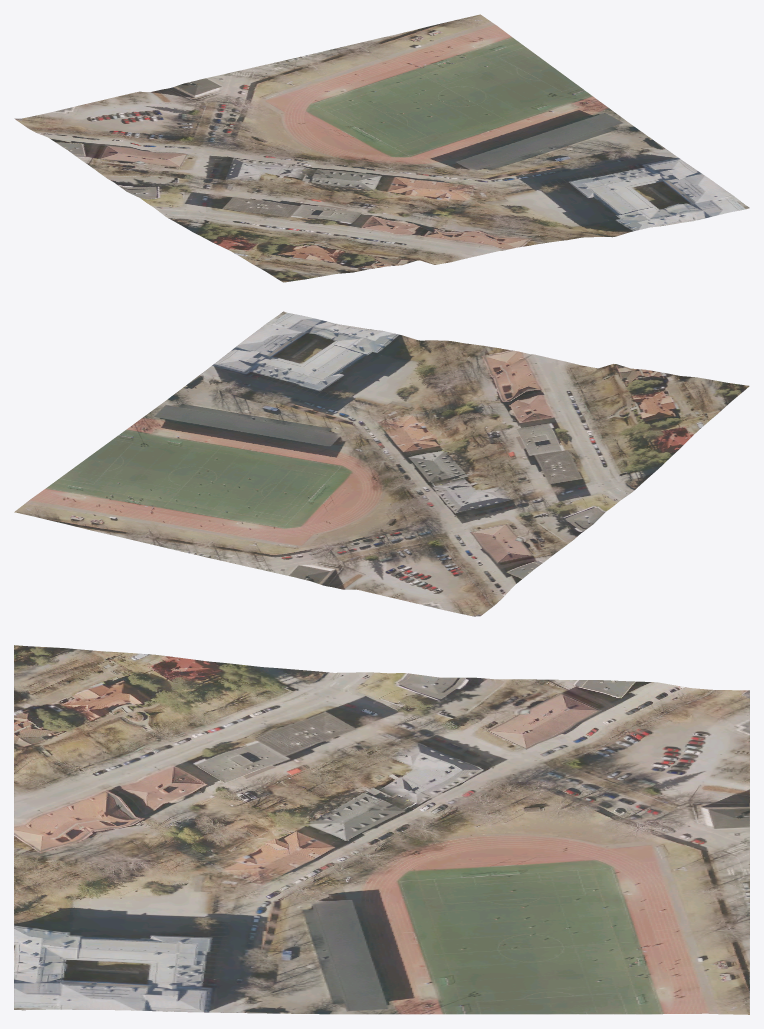
Rendered from CM_Terrain_24486158_6820613.fbx.
3 views of the same model, one above another, from view 1: azimuth 30°, elevation 25°; view 2: azimuth 150°, elevation 25°; view 3: azimuth 270°, elevation 25° (orthographic). The views are drawn at different scales.
Visible parts, largest first — view 1: CM_Terrain_24486158_6820613_LOD0; view 2: CM_Terrain_24486158_6820613_LOD0; view 3: CM_Terrain_24486158_6820613_LOD0.
Boxes of the visible parts, bbox=[...] form: CM_Terrain_24486158_6820613_LOD0: bbox=[14, 14, 749, 282]; CM_Terrain_24486158_6820613_LOD0: bbox=[14, 311, 749, 616]; CM_Terrain_24486158_6820613_LOD0: bbox=[14, 645, 749, 1014].
Size of what is drawn, in the model's own units: 205 by 18.03 by 205.
